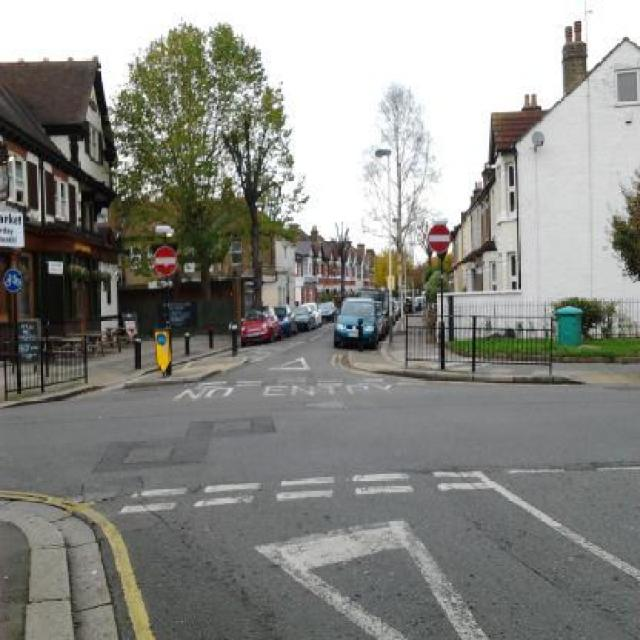Zakaz wjazdu: (424, 221, 454, 256), (152, 242, 180, 278)
